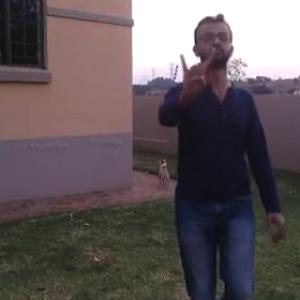takeoff-hand: (176, 45, 215, 99)
